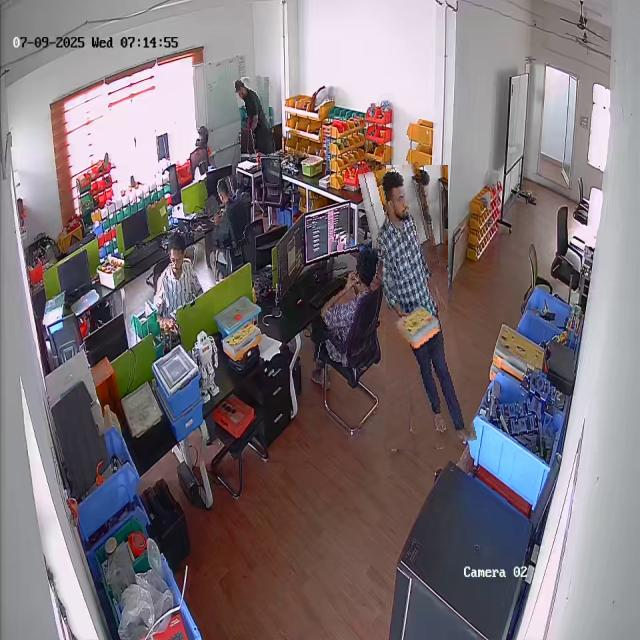person: (372, 164, 463, 450), (317, 244, 381, 368), (147, 231, 204, 325), (209, 176, 251, 250), (237, 76, 273, 158)
